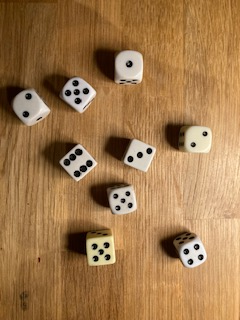five: (58, 76, 99, 115), (84, 228, 117, 267), (106, 182, 138, 217)
four: (171, 230, 208, 269)
one: (113, 49, 143, 87)
six: (57, 143, 99, 183)
three: (121, 137, 158, 174)
two: (10, 87, 52, 127), (177, 123, 214, 156)
